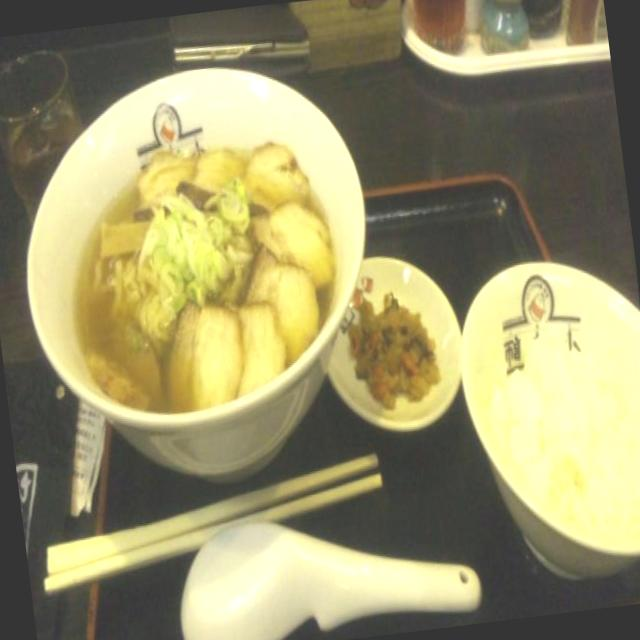Rice: (475, 316, 640, 556)
